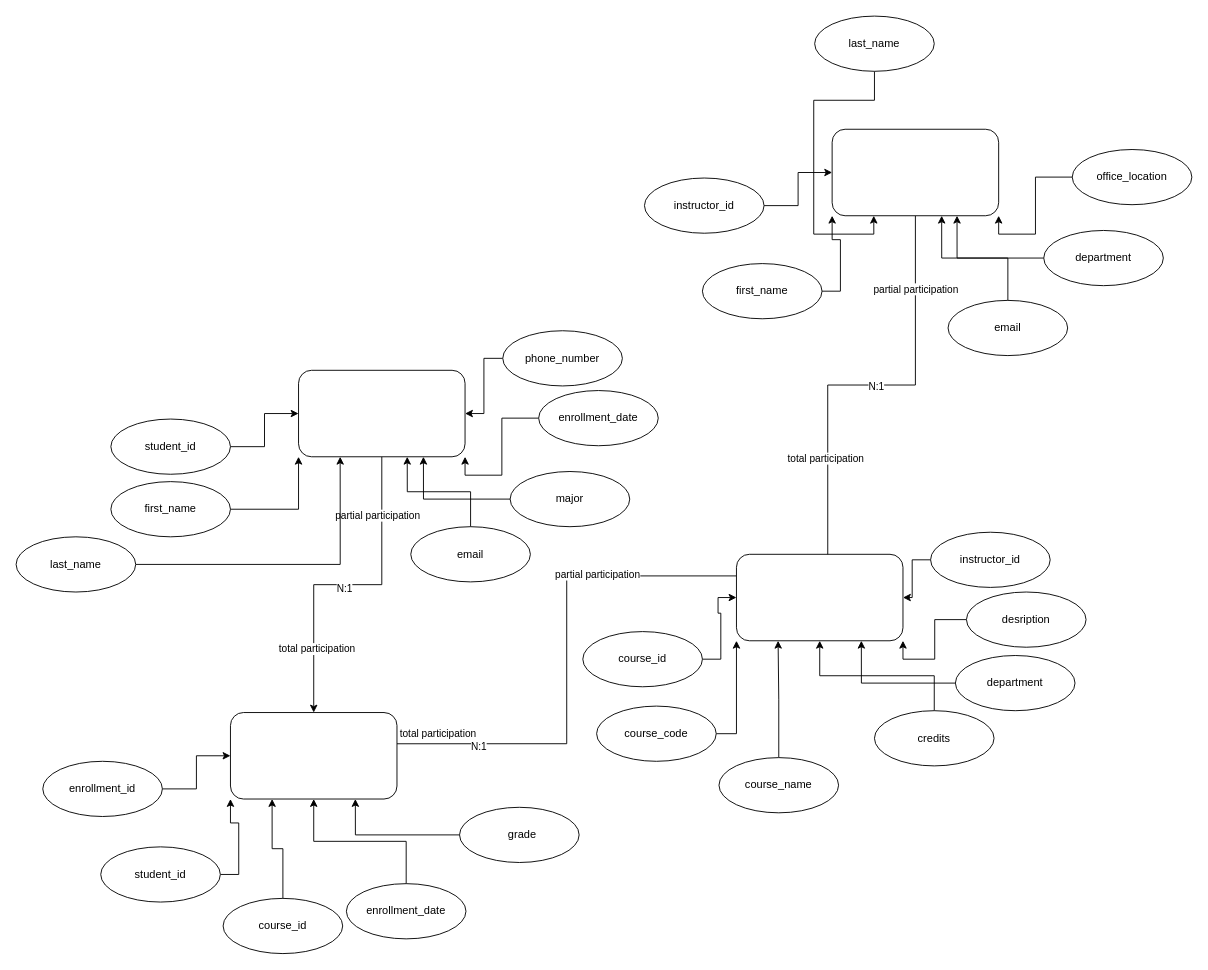
This 1208x970 diagram has some shape labels left out. Here are the shapes that lost their labels. From the top down, the centre of each, then its label:
At point (915, 172): "Instructors".
At point (381, 413): "Students".
At point (819, 597): "Courses".
At point (313, 755): "Enrollments".
